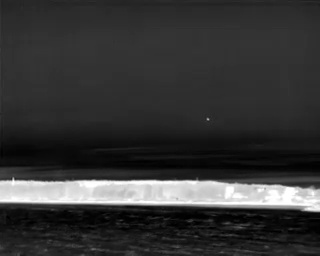HELICOPTER: (204, 115, 212, 125)
